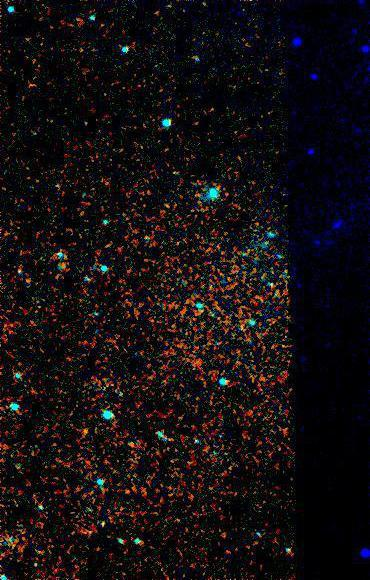star: (70, 417, 100, 447)
